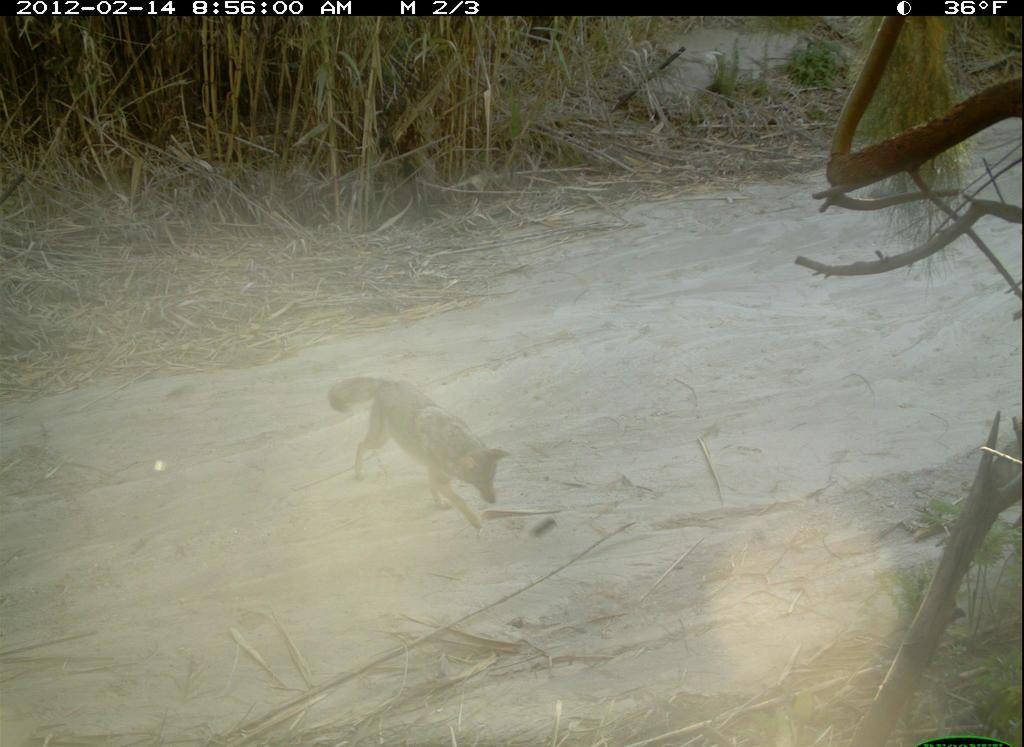coyote: (323, 365, 515, 550)
